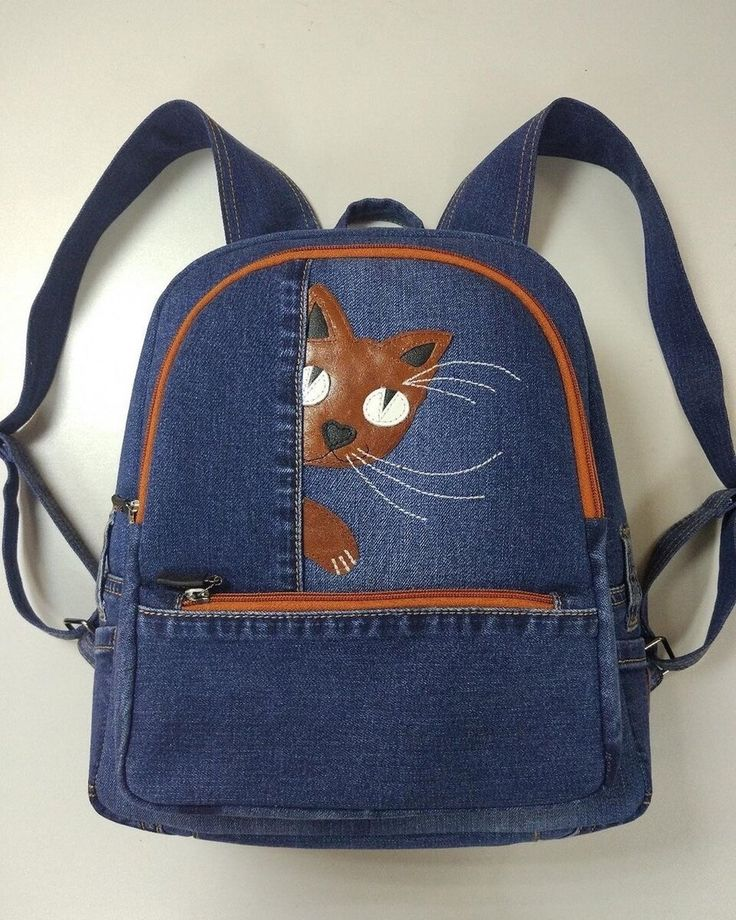cuero: (301, 285, 455, 574)
